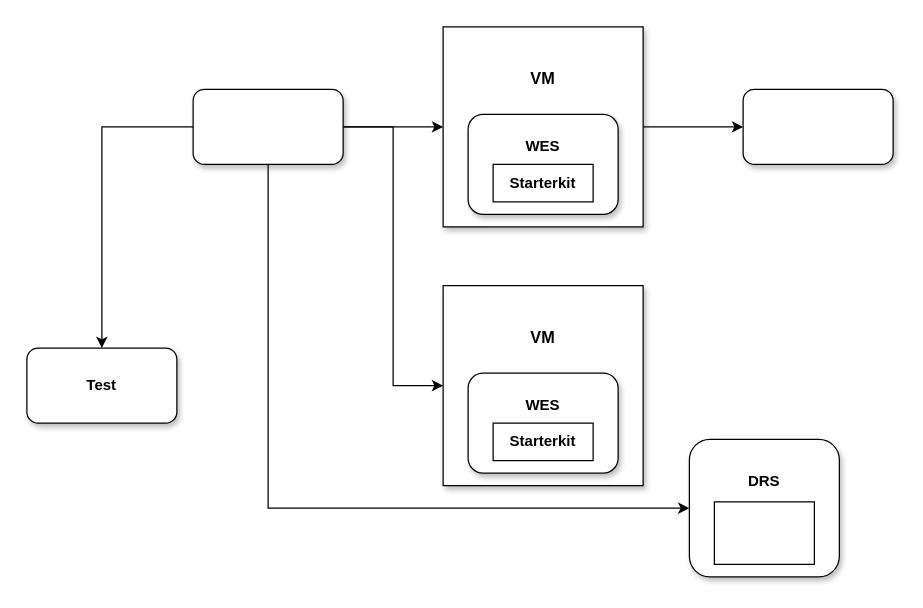
This 923x608 diagram has some shape labels left out. The shapes that lost their labels are listed below. From the top down, each one's centre as x and y in pixels, then its label:
At [269,128]: "Nextflow workflow".
At [819,128]: "Result".
At [763,532]: "Reference Panel".
